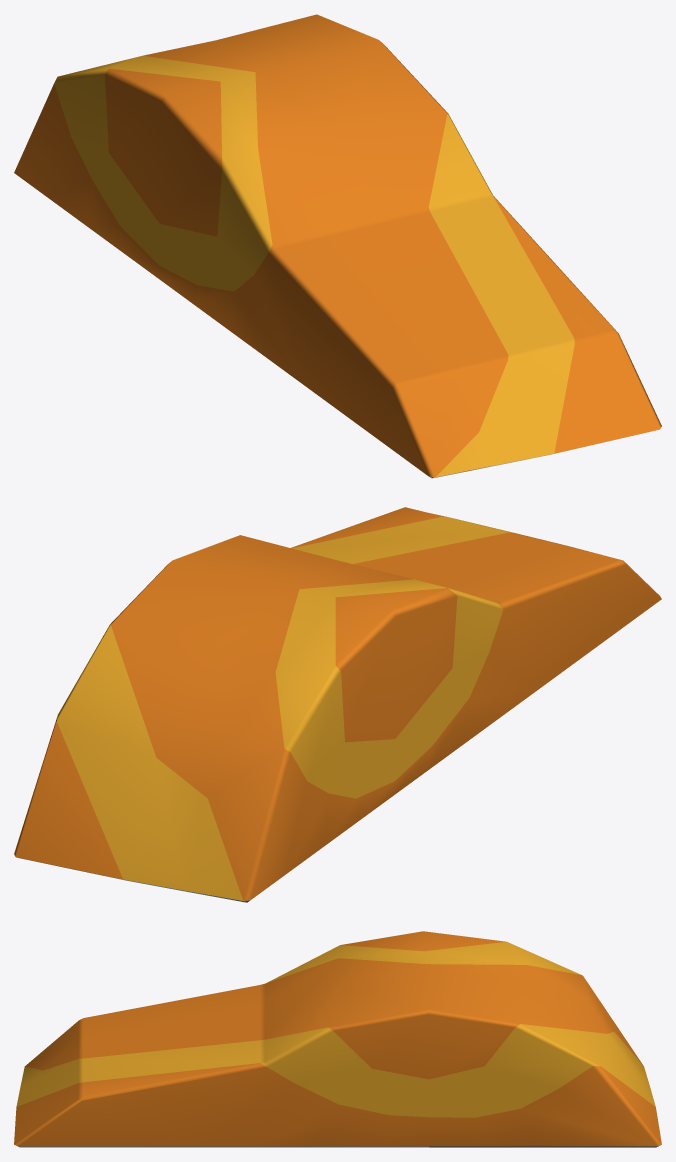
Rendered from Salmon_2_Fillet_2.fbx.
3 views of the same model, one above another, from view 1: azimuth 30°, elevation 25°; view 2: azimuth 150°, elevation 25°; view 3: azimuth 270°, elevation 25° (orthographic). The views are drawn at different scales.
Visible parts, largest first — view 1: Salmon_2_Fillet_2; view 2: Salmon_2_Fillet_2; view 3: Salmon_2_Fillet_2.
Part boxes in pixels (x1,y1,x2,y2): Salmon_2_Fillet_2: [14, 14, 661, 478]; Salmon_2_Fillet_2: [14, 507, 661, 902]; Salmon_2_Fillet_2: [14, 931, 661, 1147].
Bounding box in the file's own units: 12.98 × 10.27 × 43.58.
